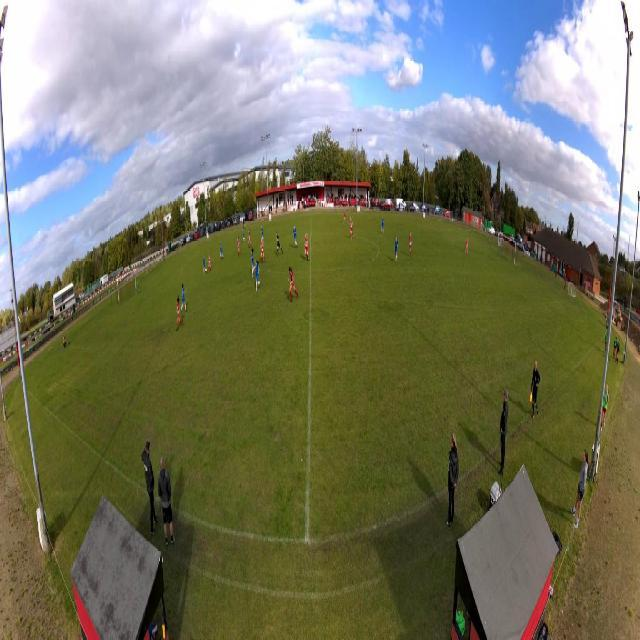ball: (218, 176, 220, 182)
player: (288, 265, 299, 303), (175, 294, 184, 333), (255, 259, 261, 294), (276, 230, 283, 257), (250, 248, 256, 279), (181, 283, 187, 314), (304, 232, 310, 262), (260, 238, 266, 264), (236, 234, 242, 258), (293, 224, 298, 250), (350, 215, 355, 241), (202, 255, 208, 276), (394, 235, 398, 264), (409, 232, 413, 259), (219, 240, 224, 261), (208, 253, 213, 274), (248, 229, 253, 248), (343, 207, 348, 226), (242, 226, 246, 243), (261, 225, 265, 241), (381, 215, 384, 235), (465, 236, 468, 255), (136, 280, 139, 297)
